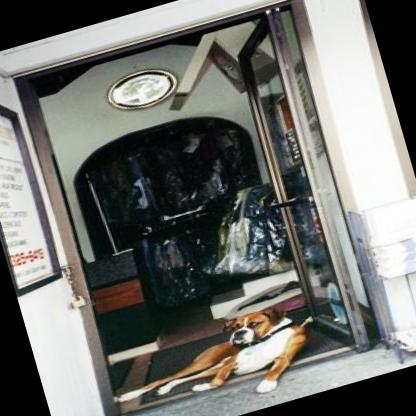boxer: (96, 300, 317, 416)
